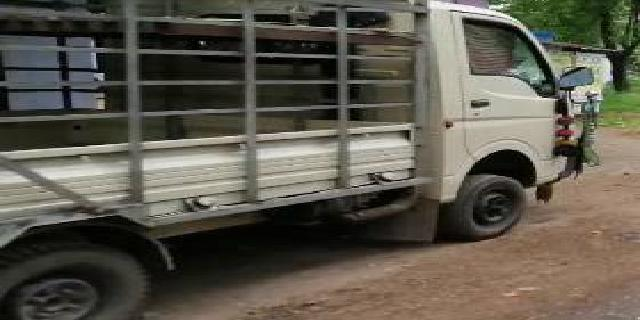Minitruck: (6, 1, 594, 320)
